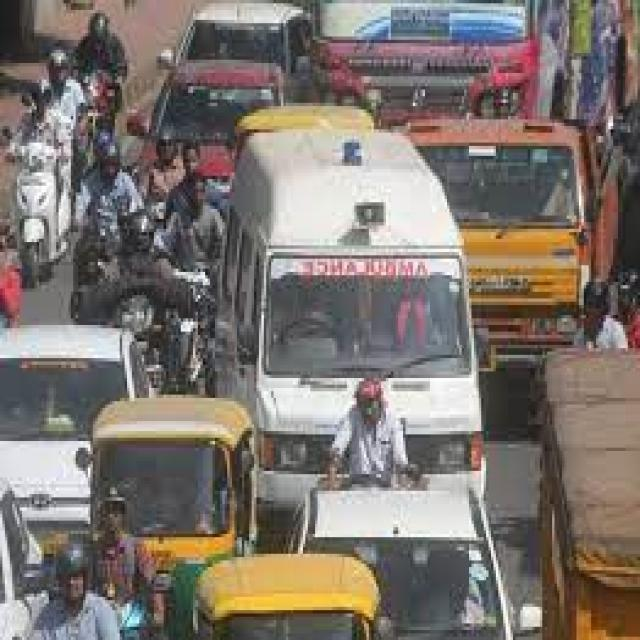emergency-vehicle: (212, 122, 488, 528)
